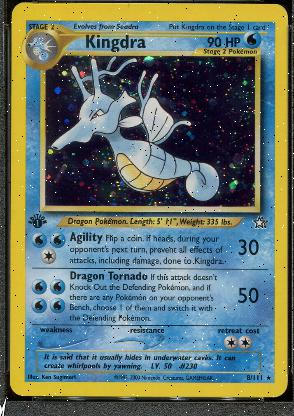Card: (10, 2, 288, 396)
